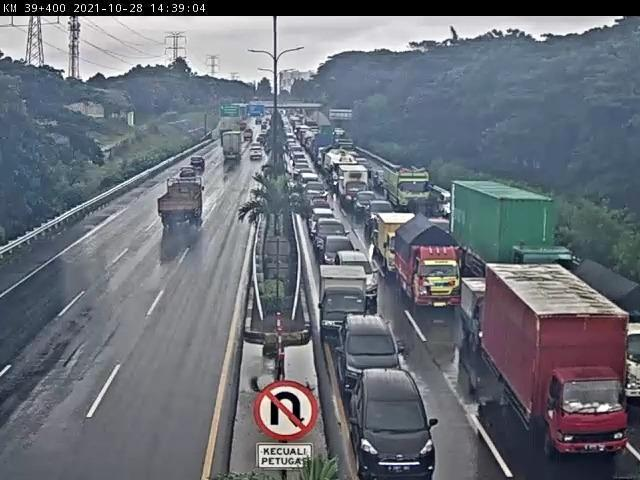car: (349, 367, 442, 480), (338, 312, 406, 398), (337, 244, 382, 300), (324, 233, 358, 274), (311, 221, 351, 254), (439, 187, 464, 219), (311, 205, 340, 230), (304, 194, 335, 213), (177, 162, 198, 189), (185, 150, 207, 173), (248, 142, 267, 162)
truck: (481, 260, 640, 471), (450, 170, 585, 302), (570, 252, 640, 403), (389, 215, 466, 312), (316, 259, 372, 341), (372, 207, 431, 268), (156, 174, 210, 230), (380, 166, 434, 209), (366, 199, 401, 233), (352, 187, 387, 219), (218, 130, 249, 161)
